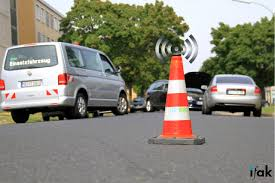car: (1, 43, 129, 117), (201, 72, 264, 114)
cone: (152, 57, 198, 148)
